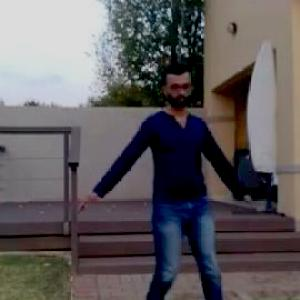land: (88, 72, 240, 299)
